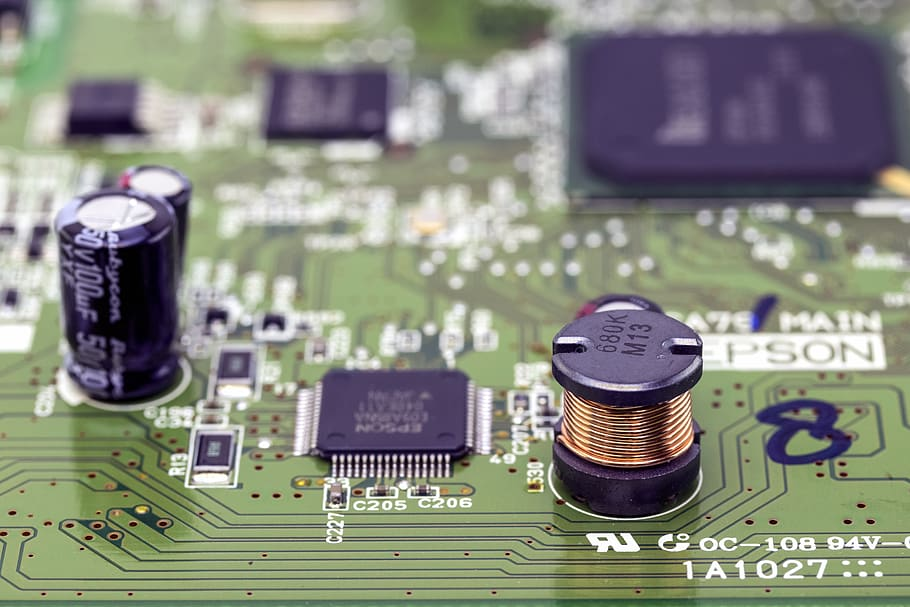capacitor: (55, 181, 189, 422), (112, 151, 214, 265)
